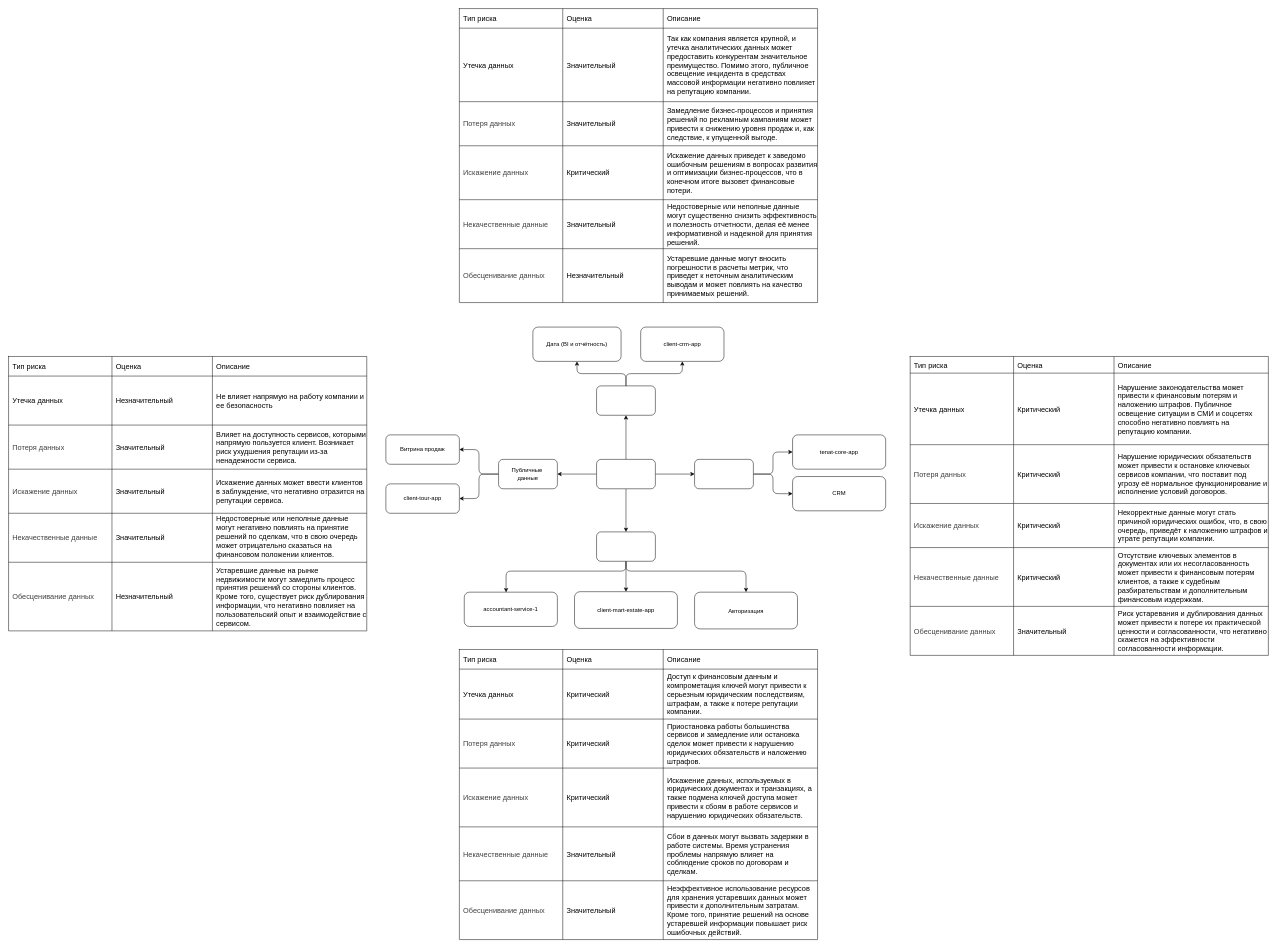
This 1277x948 diagram has some shape labels left out. The centre of each missing label's shape, as x and y in pixels:
"Безопасность данных" belongs at (625,474).
"Внутренние данные" belongs at (625,400).
"Конфиденциальные данные" belongs at (723,474).
"Секретные данные" belongs at (625,546).
